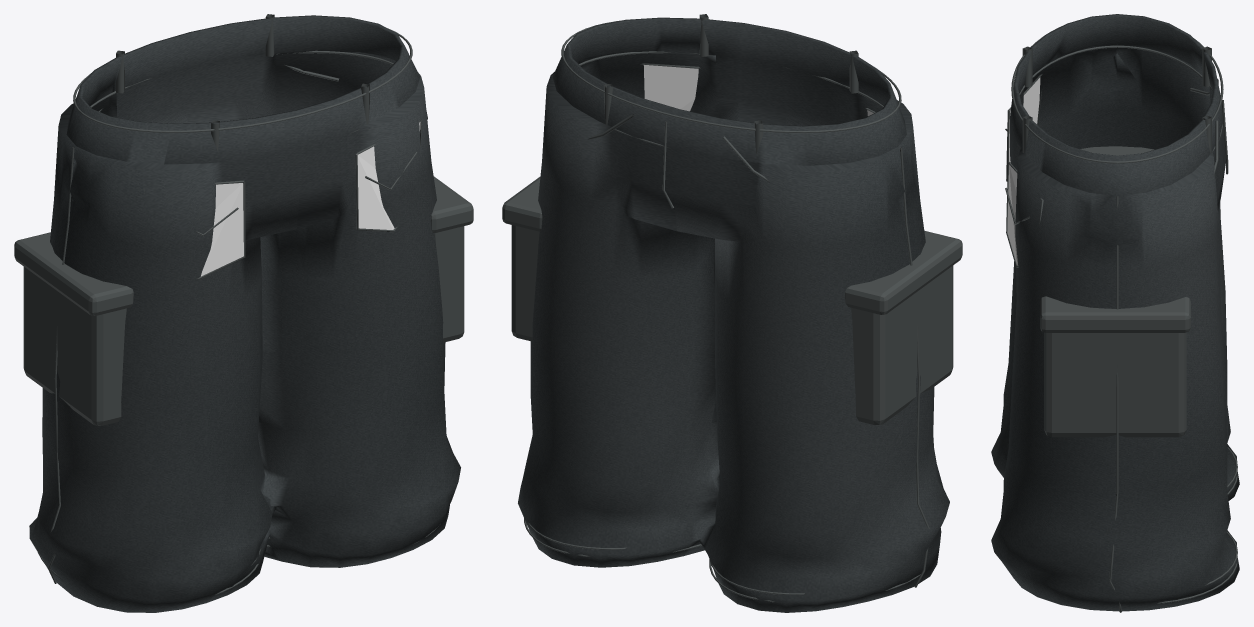
The model's file is SB_BOTTOM_01.fbx.
The picture shows the model from 3 angles, left to right: view 1: azimuth 30°, elevation 25°; view 2: azimuth 150°, elevation 25°; view 3: azimuth 270°, elevation 25°; orthographic projection. The views are drawn at different scales.
Visible parts, largest first — view 1: Corpo da jeans.002, Cargo_bolso, Cargo_aba, Cargo_bolso.001, Bolso traseiro -1.002, Bolso traseiro 1.002, Cargo_aba.001, Pesponto do cós.005, Costura lateral -1.002; view 2: Corpo da jeans.002, Cargo_bolso, Cargo_aba, Cargo_bolso.001, Bolso traseiro 1.002, Cargo_aba.001, Pesponto do cós.005, Costura lateral -1.002; view 3: Corpo da jeans.002, Cargo_bolso.001, Cargo_aba.001, Pesponto do cós.005, Costura lateral 1.002, Bolso traseiro 1.002, Bolso traseiro -1.002, Pesponto do cós.004, Cargo_aba.
Boxes of the visible parts, left/top/right/bottom form: Corpo da jeans.002: left=29, top=15, right=460, bottom=612; Cargo_bolso: left=23, top=267, right=126, bottom=425; Cargo_aba: left=14, top=232, right=133, bottom=315; Cargo_bolso.001: left=434, top=226, right=464, bottom=342; Bolso traseiro -1.002: left=201, top=183, right=243, bottom=276; Bolso traseiro 1.002: left=356, top=122, right=420, bottom=229; Cargo_aba.001: left=431, top=176, right=473, bottom=232; Pesponto do cós.005: left=73, top=28, right=412, bottom=132; Costura lateral -1.002: left=48, top=147, right=74, bottom=583; Corpo da jeans.002: left=518, top=17, right=949, bottom=612; Cargo_bolso: left=851, top=265, right=953, bottom=425; Cargo_aba: left=845, top=230, right=962, bottom=314; Cargo_bolso.001: left=511, top=225, right=539, bottom=341; Bolso traseiro 1.002: left=643, top=65, right=698, bottom=111; Cargo_aba.001: left=502, top=177, right=542, bottom=231; Pesponto do cós.005: left=561, top=20, right=901, bottom=133; Costura lateral -1.002: left=900, top=147, right=929, bottom=587; Corpo da jeans.002: left=991, top=14, right=1239, bottom=611; Cargo_bolso.001: left=1044, top=332, right=1186, bottom=437; Cargo_aba.001: left=1040, top=296, right=1190, bottom=332; Pesponto do cós.005: left=1011, top=26, right=1223, bottom=163; Costura lateral 1.002: left=1109, top=196, right=1121, bottom=612; Bolso traseiro 1.002: left=1007, top=164, right=1017, bottom=265; Bolso traseiro -1.002: left=1009, top=77, right=1040, bottom=162; Pesponto do cós.004: left=1018, top=45, right=1223, bottom=151; Cargo_aba: left=1080, top=146, right=1154, bottom=155.
Bounding box in the file's own units: 105 × 121 × 60.95.
Materials: 3 (1 with a texture image).
